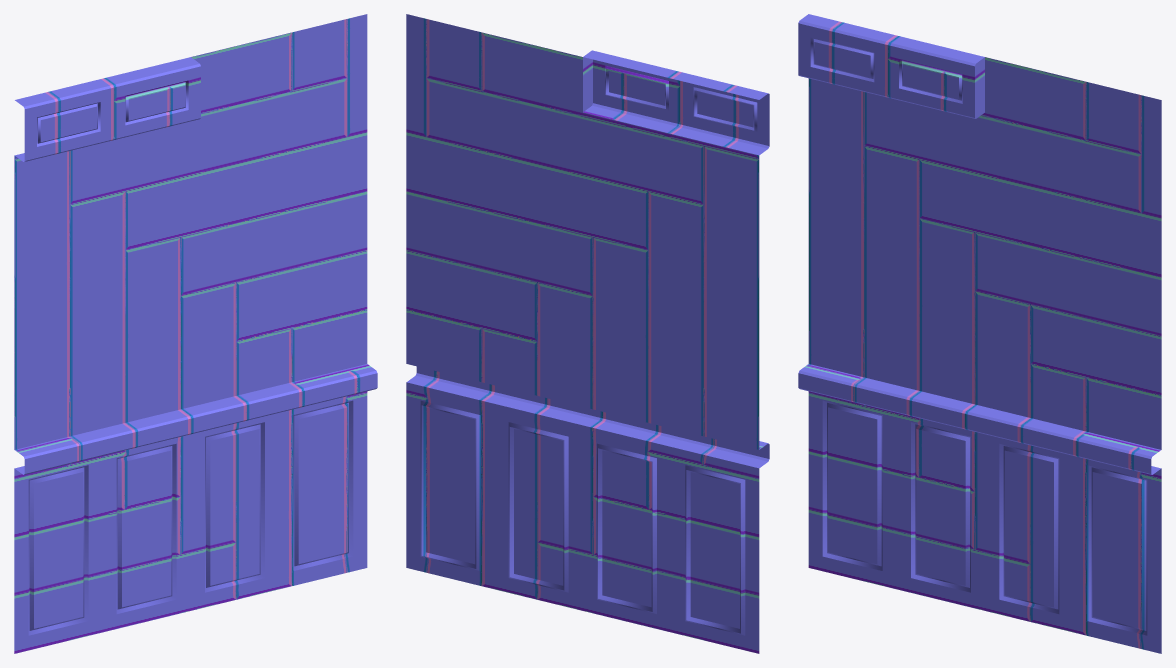
Rendered from Foyer Wall Stairs Left.fbx.
The picture shows the model from 3 angles, left to right: view 1: azimuth 30°, elevation 25°; view 2: azimuth 150°, elevation 25°; view 3: azimuth 330°, elevation 25°; orthographic projection.
Visible parts, largest first — view 1: Normal_Wall_Stairs_Left; view 2: Normal_Wall_Stairs_Left; view 3: Normal_Wall_Stairs_Left.
Part boxes in pixels (bbox=[...]): Normal_Wall_Stairs_Left: bbox=[14, 14, 377, 653]; Normal_Wall_Stairs_Left: bbox=[406, 14, 769, 653]; Normal_Wall_Stairs_Left: bbox=[798, 14, 1161, 653].
Size of the model in its own units: 200 by 300 by 11.67.
